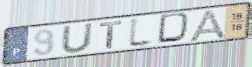9: (32, 28, 58, 57)
A: (187, 8, 228, 43)
D: (156, 11, 194, 45)
L: (127, 15, 156, 50)
T: (98, 20, 124, 50)
U: (60, 22, 95, 54)
